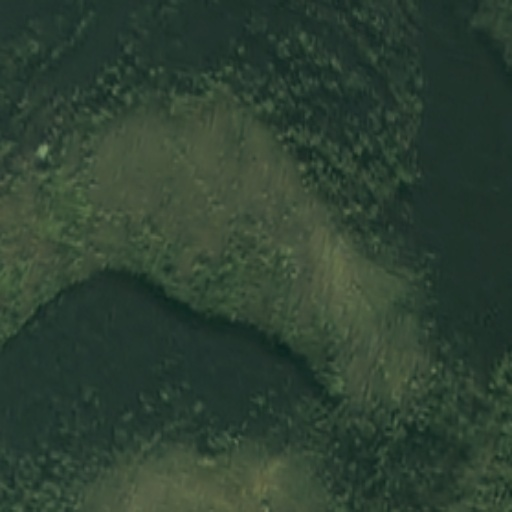landslide: (91, 82, 382, 293)
